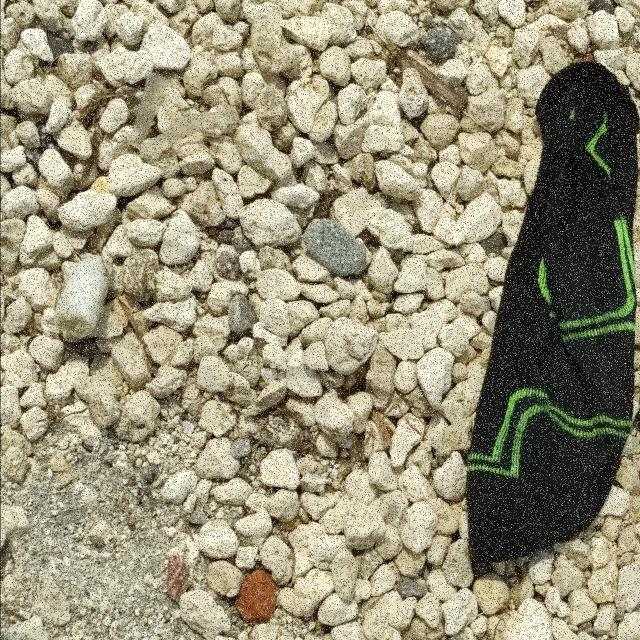textile_waste: (465, 60, 640, 568)
